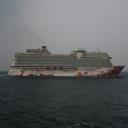cruises: (6, 45, 128, 82)
